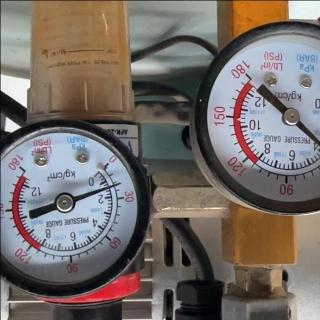gauge: (1, 115, 151, 309), (188, 7, 320, 218), (53, 191, 75, 213), (237, 65, 257, 87), (12, 158, 32, 178), (282, 106, 300, 126), (96, 154, 114, 174), (112, 180, 122, 188)
